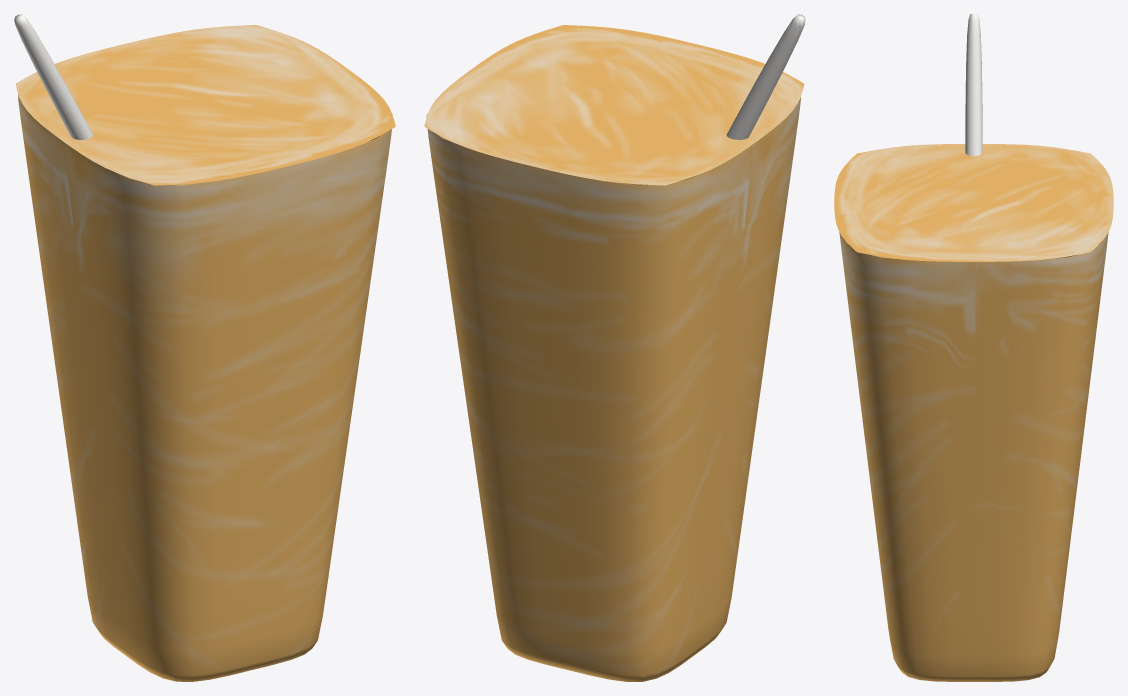
The model's file is orange_fruitSmoothie.fbx.
The picture shows the model from 3 angles, left to right: view 1: azimuth 30°, elevation 25°; view 2: azimuth 150°, elevation 25°; view 3: azimuth 270°, elevation 25°; orthographic projection. The views are drawn at different scales.
Parts seen in each view (by area): view 1: pCylinder2; view 2: pCylinder2; view 3: pCylinder2.
Part boxes in pixels (<box>): pCylinder2: <box>14,14,395,681</box>; pCylinder2: <box>424,14,805,681</box>; pCylinder2: <box>834,14,1113,681</box>.
Bounding box in the file's own units: 16.76 × 31.95 × 14.42.
1 material, 1 textured.
